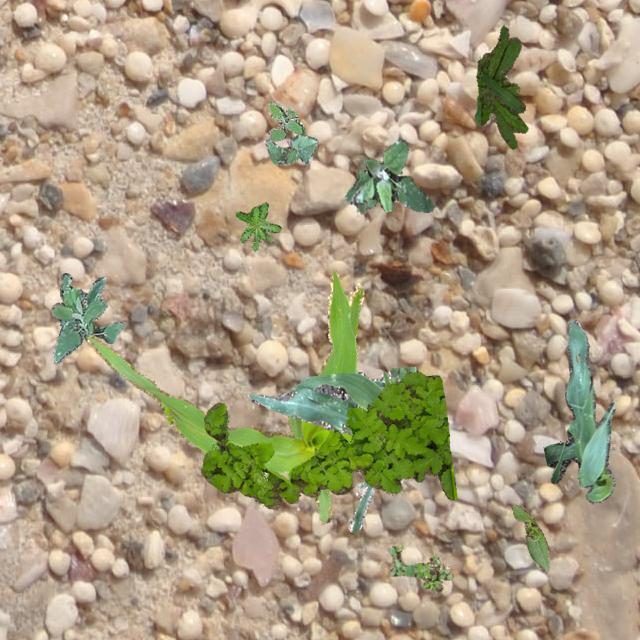crop: (85, 270, 362, 522), (246, 366, 416, 532), (542, 318, 614, 502), (512, 504, 548, 570), (264, 134, 316, 164)
weed: (199, 371, 455, 508), (344, 138, 434, 212), (50, 272, 124, 362), (474, 24, 526, 148), (389, 544, 452, 592), (234, 202, 280, 250), (266, 100, 304, 140)
